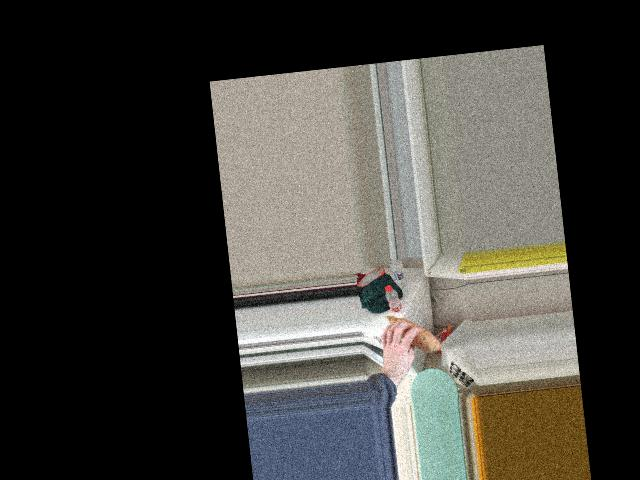sweet_potato: (381, 312, 437, 355)
